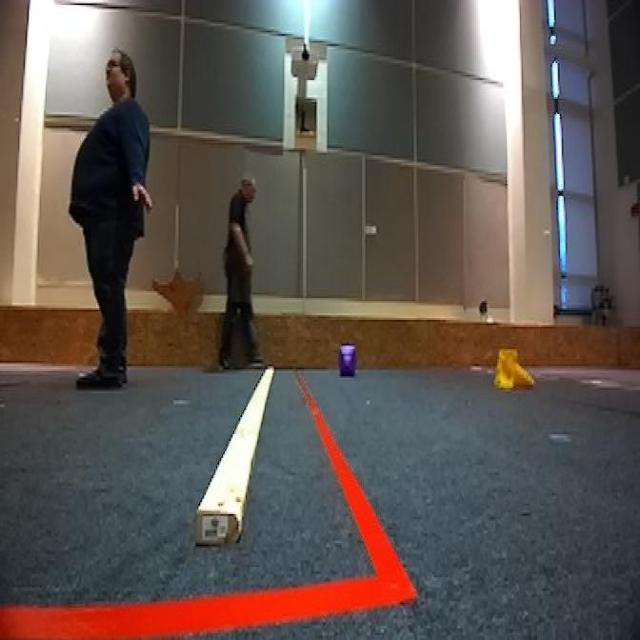frc_cone: (490, 346, 540, 392)
frc_cube: (338, 346, 358, 376)
